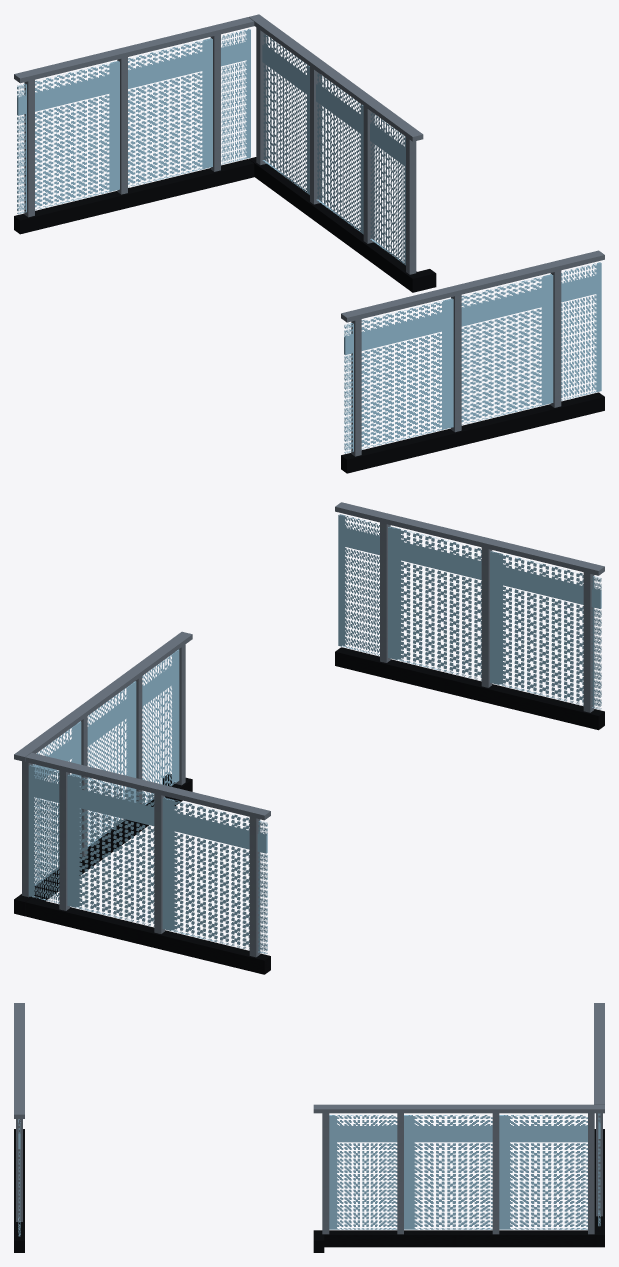
The model's file is tt_bridges_landing_guards.glb.
3 views of the same model, one above another, from view 1: azimuth 30°, elevation 25°; view 2: azimuth 150°, elevation 25°; view 3: azimuth 270°, elevation 25° (orthographic). The views are drawn at different scales.
Parts seen in each view (by area): view 1: Bridge_Pane_Scissor, Bridge_Kick, Bridge_Post, Bridge_CapRail; view 2: Bridge_Pane_Scissor, Bridge_Kick, Bridge_Post, Bridge_CapRail; view 3: Bridge_Pane_Scissor, Bridge_Kick, Bridge_CapRail, Bridge_Post.
Boxes of the visible parts, box(x1,y1,x2,y2) form: Bridge_Pane_Scissor: box(17, 29, 601, 453); Bridge_Kick: box(14, 157, 604, 473); Bridge_Post: box(24, 27, 561, 456); Bridge_CapRail: box(14, 14, 604, 322); Bridge_Pane_Scissor: box(28, 514, 601, 953); Bridge_Kick: box(14, 647, 604, 974); Bridge_Post: box(22, 522, 594, 957); Bridge_CapRail: box(14, 502, 604, 820); Bridge_Pane_Scissor: box(18, 1113, 600, 1236); Bridge_Kick: box(14, 1129, 604, 1252); Bridge_CapRail: box(14, 1003, 604, 1118); Bridge_Post: box(16, 1113, 602, 1234).
Size of what is drawn, in the model's own units: 1.94 by 1.12 by 4.34.
3 materials, 3 textured.
